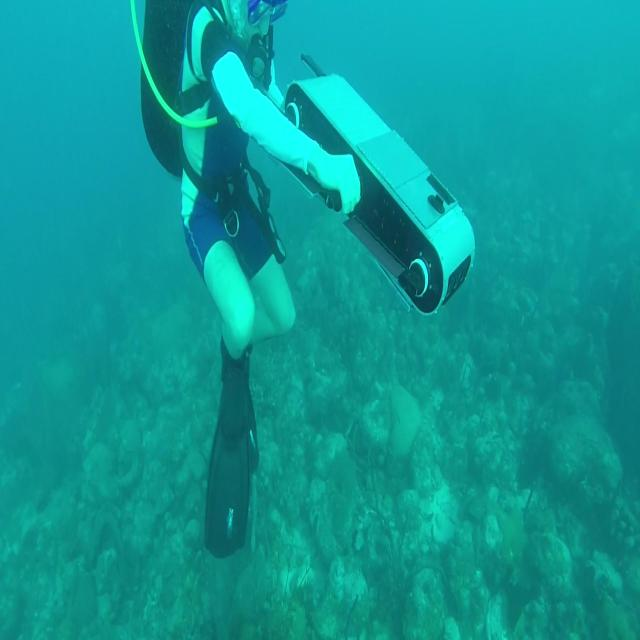human: (139, 0, 363, 558)
